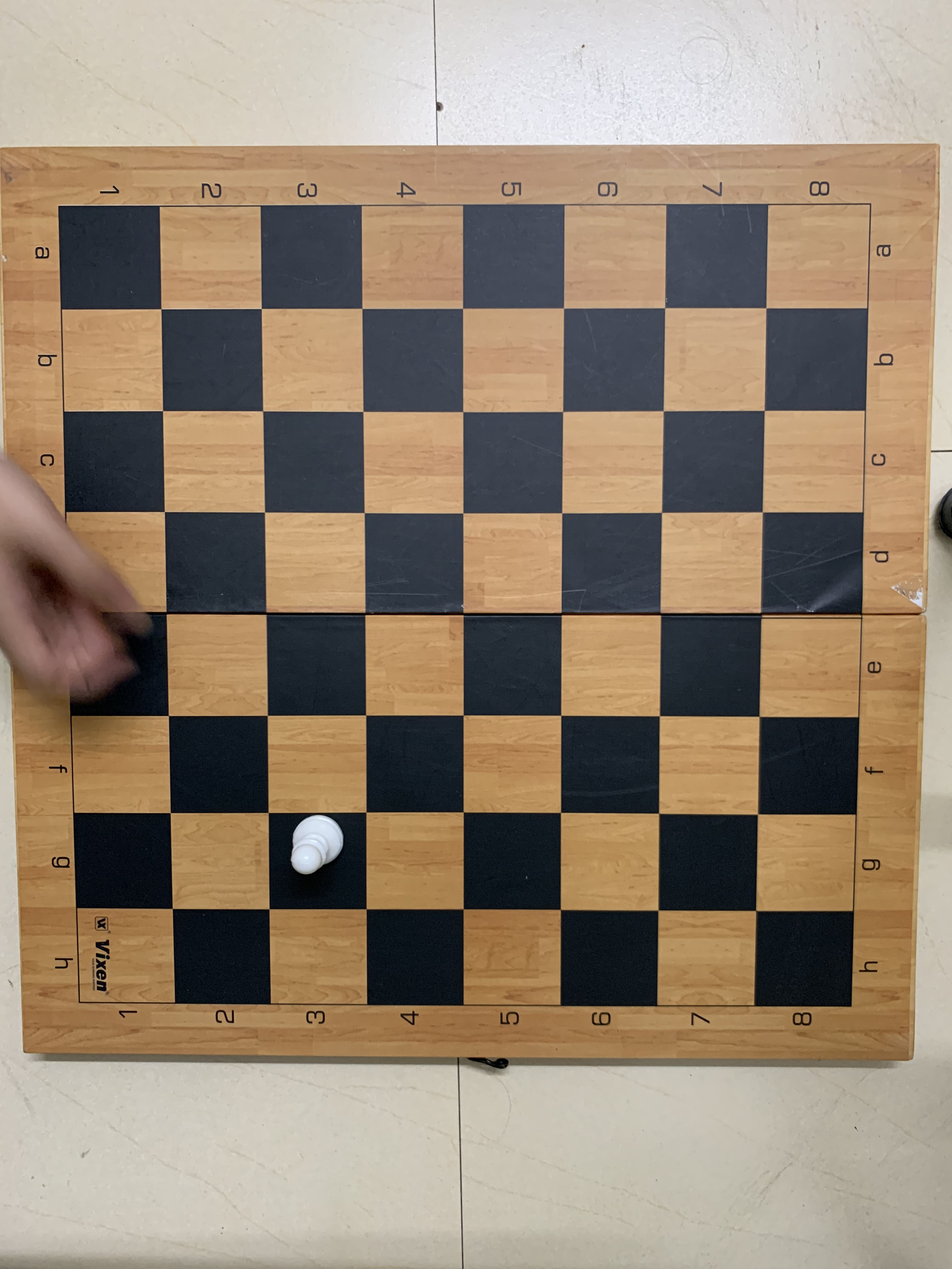white_pawn: (264, 811, 357, 906)
